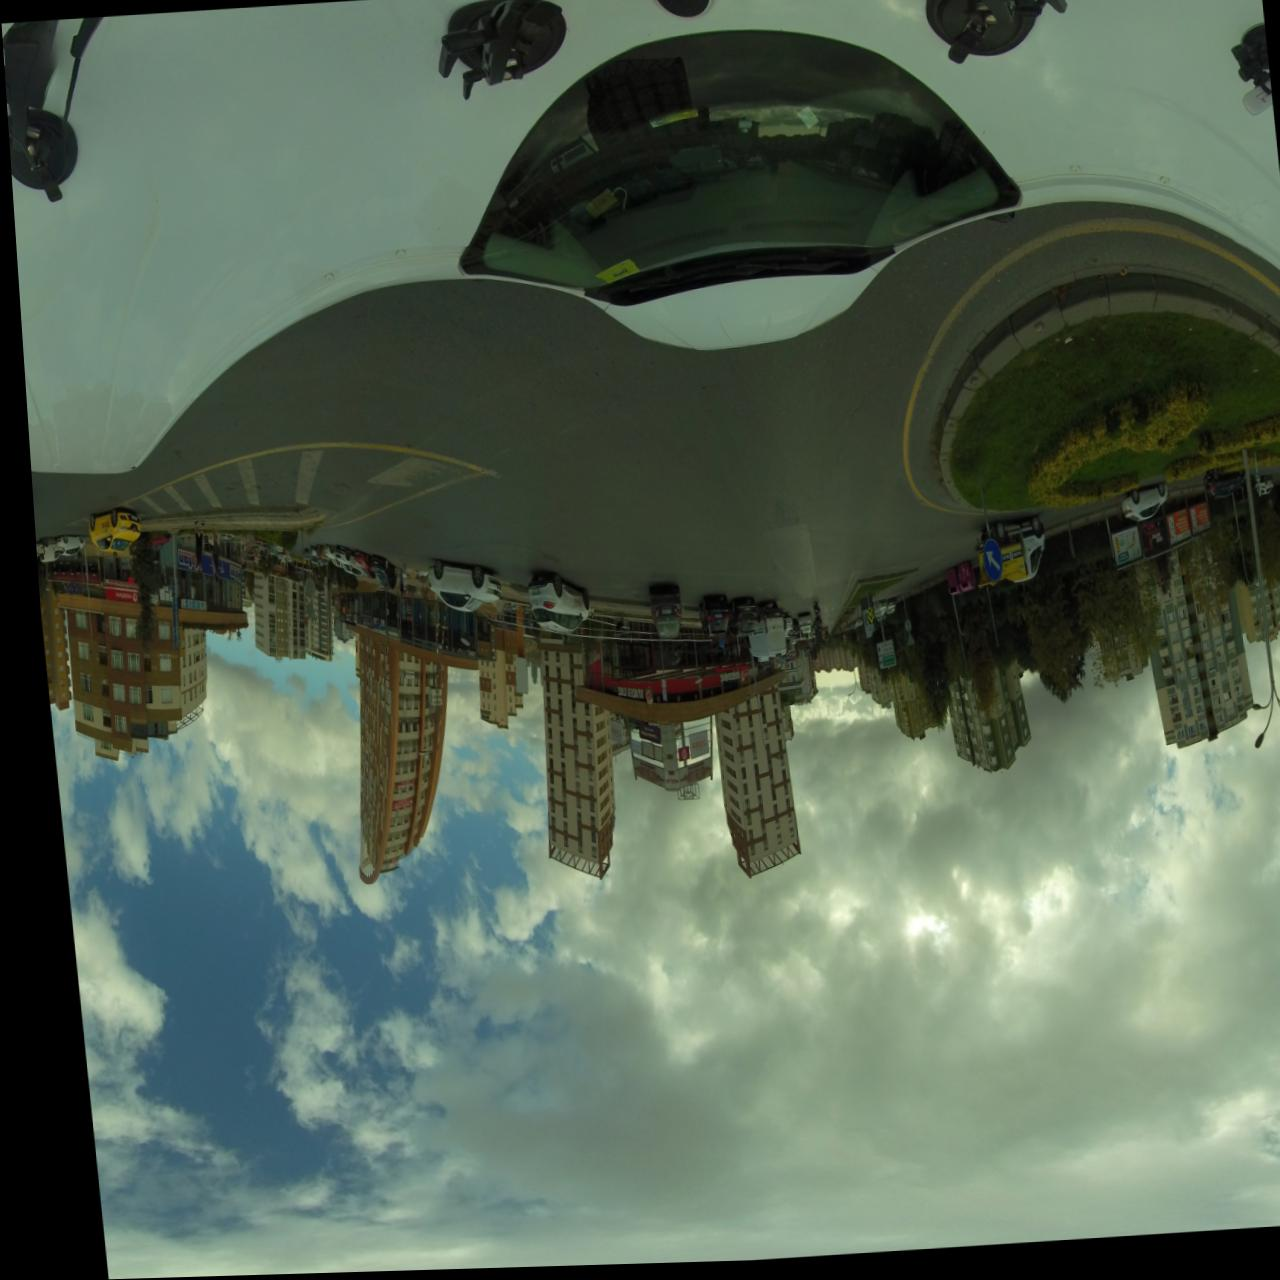SignStore: (600, 681, 638, 710), (93, 585, 128, 606), (704, 670, 731, 690), (170, 593, 196, 613), (168, 546, 188, 572), (50, 580, 74, 598), (219, 560, 232, 581), (362, 617, 375, 634), (349, 614, 360, 626), (763, 660, 771, 670), (733, 669, 738, 681)
